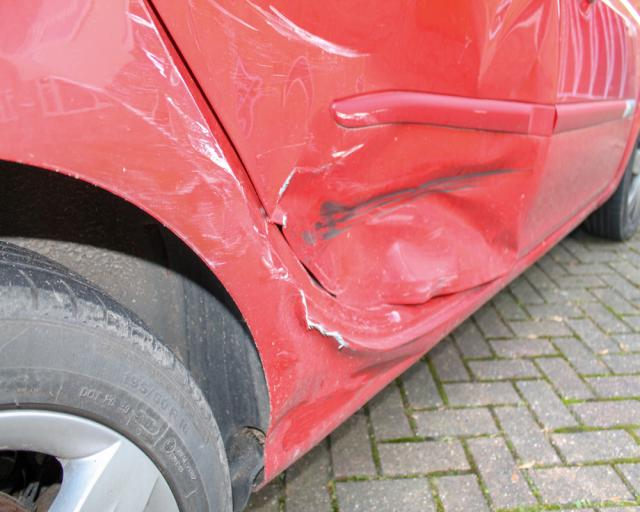dent: (276, 123, 541, 308)
scratch: (50, 9, 355, 355), (210, 0, 371, 80)
